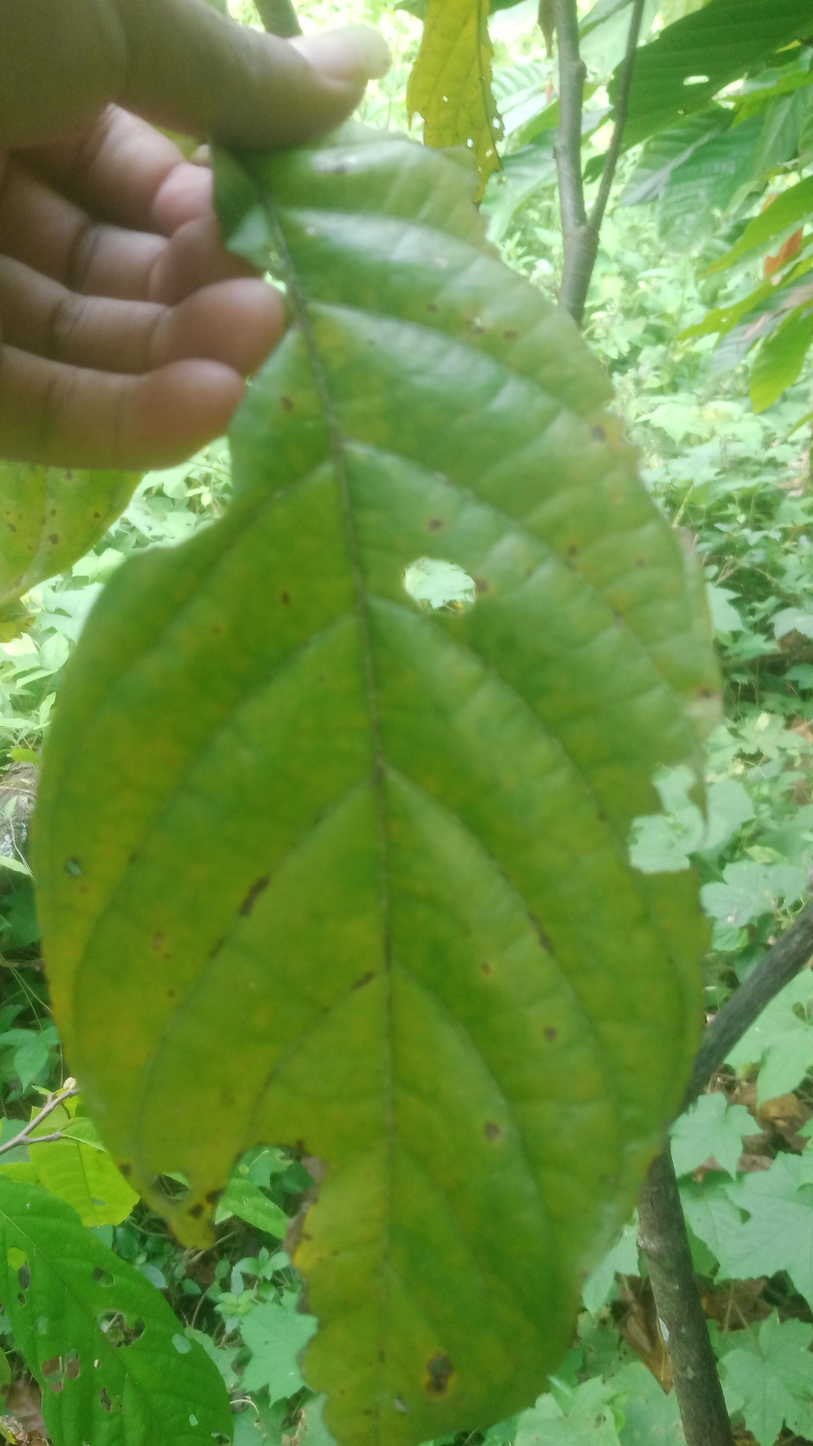deficiencia_potasio: (38, 117, 730, 1446)
